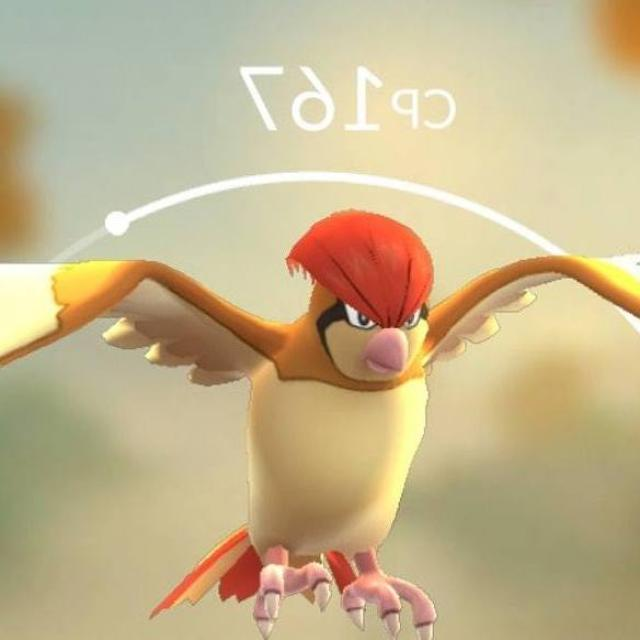Pidgeotto: (130, 203, 601, 628)
